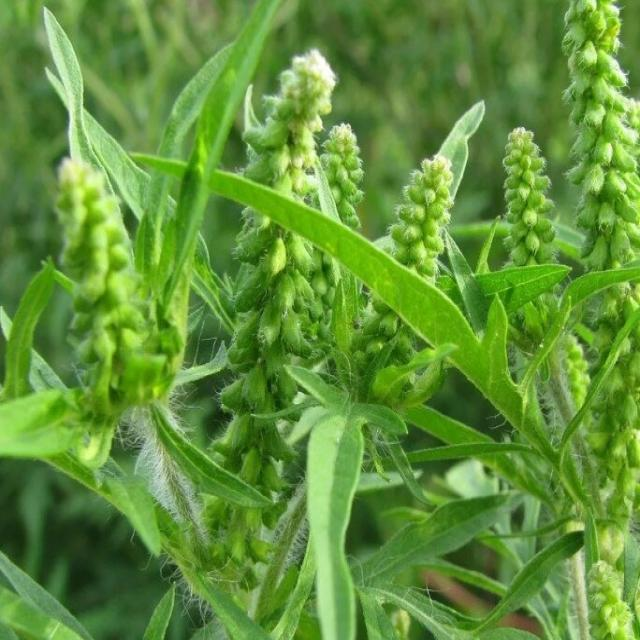ambrosia: (198, 36, 316, 534), (320, 94, 468, 438), (44, 154, 185, 450), (564, 5, 640, 471), (483, 93, 568, 471)
